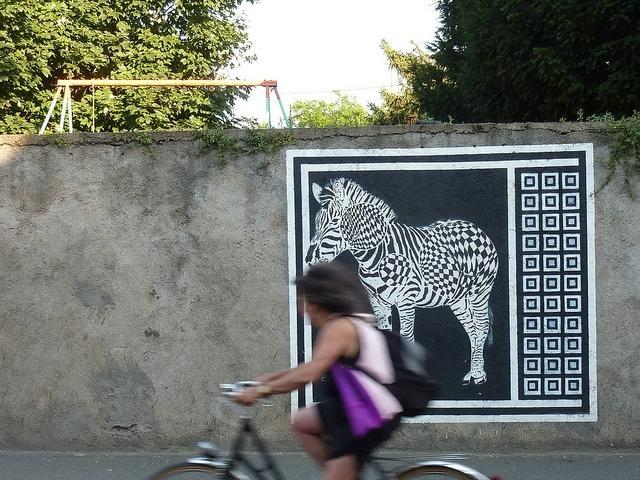bicycle: (151, 381, 483, 473)
